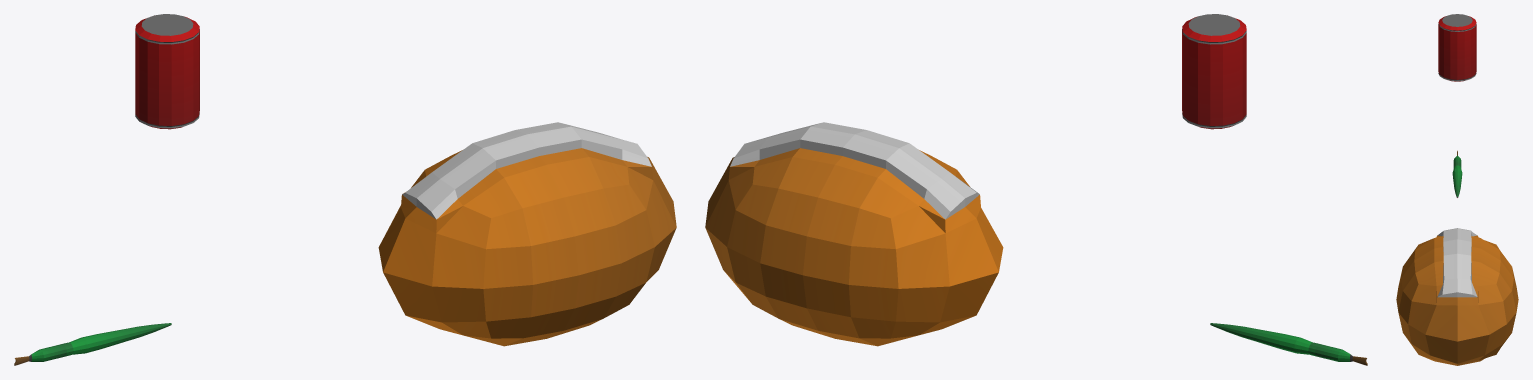
File: propsrecogibles_.fbx
3 renders of one model, left to right at view 1: azimuth 30°, elevation 25°; view 2: azimuth 150°, elevation 25°; view 3: azimuth 270°, elevation 25°, orthographic. The views are drawn at different scales.
Parts seen in each view (by area): view 1: Cube, Plane, Cylinder; view 2: Cube, Plane, Cylinder; view 3: Cube, Plane, Cylinder.
Boxes of the visible parts, x1=… form: Cube: x1=378, y1=122, x2=676, y2=346; Plane: x1=135, y1=14, x2=199, y2=129; Cylinder: x1=14, y1=323, x2=171, y2=365; Cube: x1=705, y1=122, x2=1003, y2=346; Plane: x1=1182, y1=14, x2=1246, y2=129; Cylinder: x1=1210, y1=323, x2=1367, y2=365; Cube: x1=1396, y1=228, x2=1518, y2=365; Plane: x1=1438, y1=14, x2=1476, y2=81; Cylinder: x1=1452, y1=150, x2=1462, y2=197.
Bounding box in the file's own units: 1166 × 667 × 319.
Materials: 1 (1 with a texture image).
